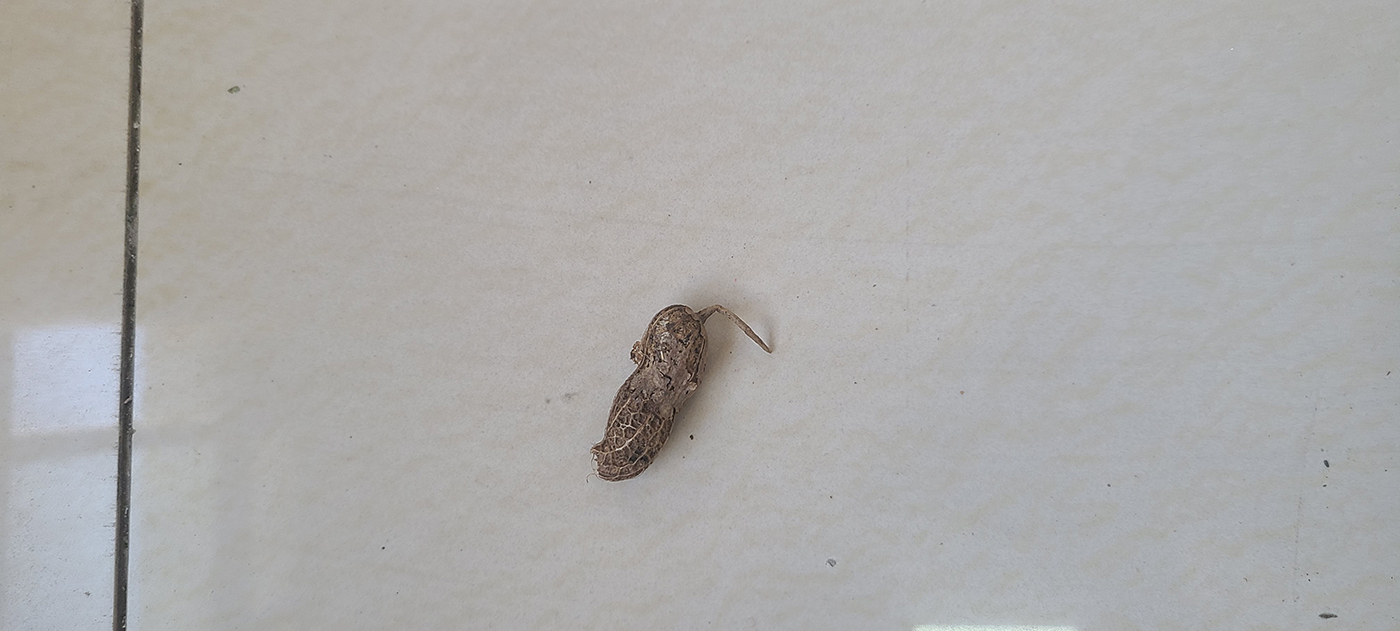l: (591, 304, 708, 483)
